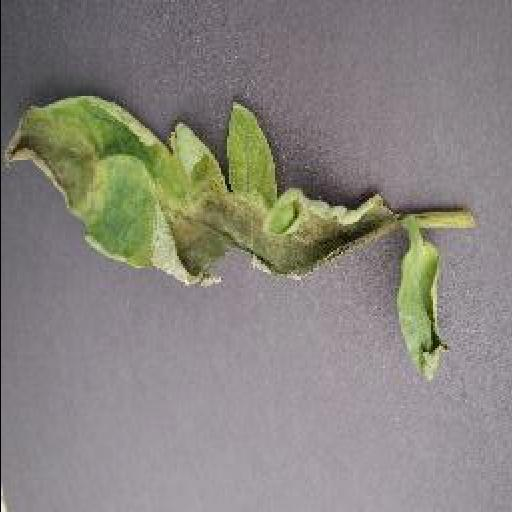disease_tomato: (2, 90, 400, 290), (398, 245, 448, 383)
